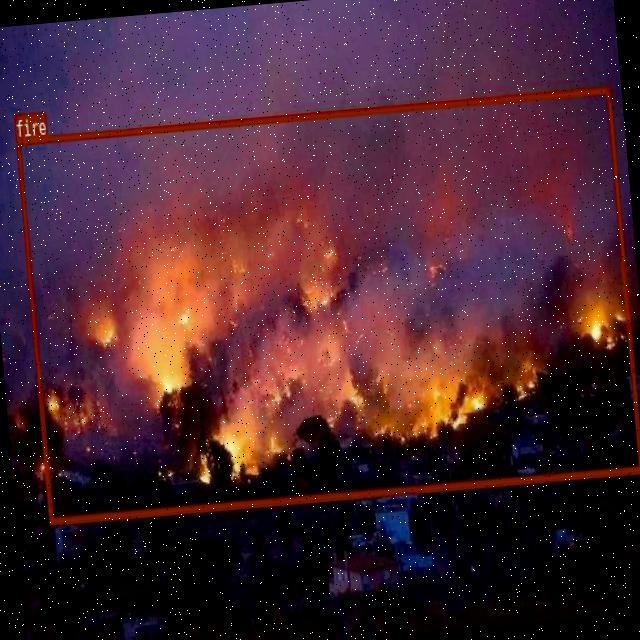fire: (15, 84, 640, 522)
